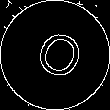O_SW: (25, 23, 85, 87)
